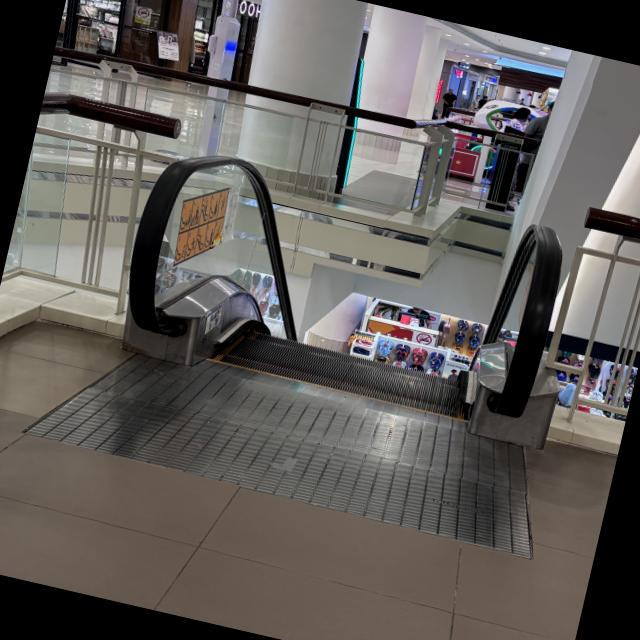escalator: (0, 135, 576, 581)
